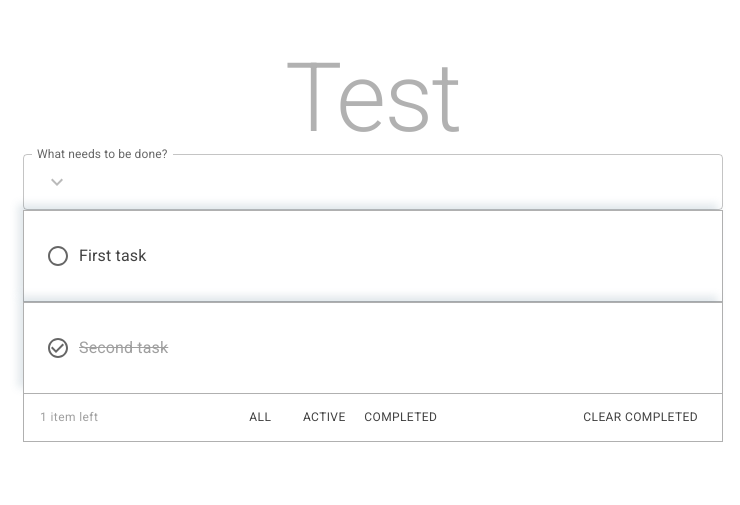
Test: TodoList Component › should add new todo when Enter is pressed
Type "New task" into the field labelled "What needs to be done?" at (400, 182), box [77,154,723,210]
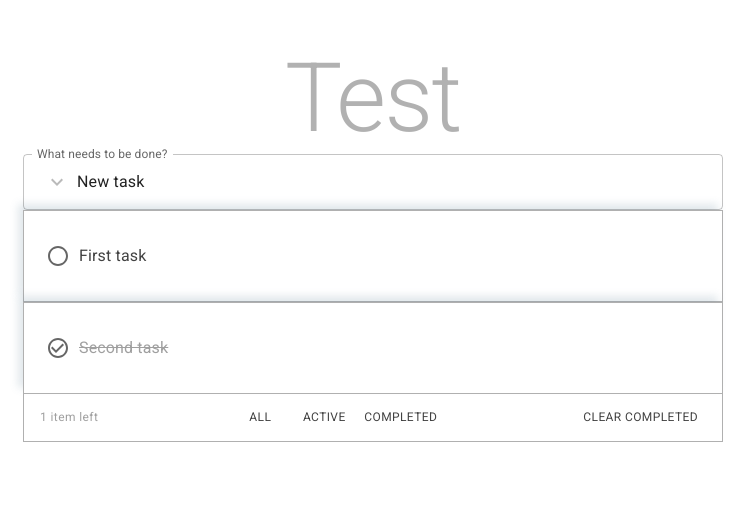
Press Enter in the field labelled "What needs to be done?", box [77,154,723,210]
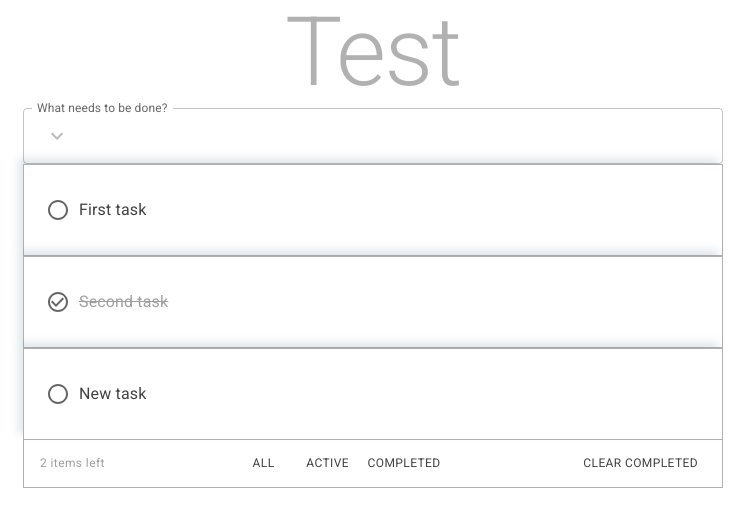
Result: the heading "New task" is shown at [79,380,146,408]
Result: the field labelled "What needs to be done?" is empty at [77,108,723,164]
